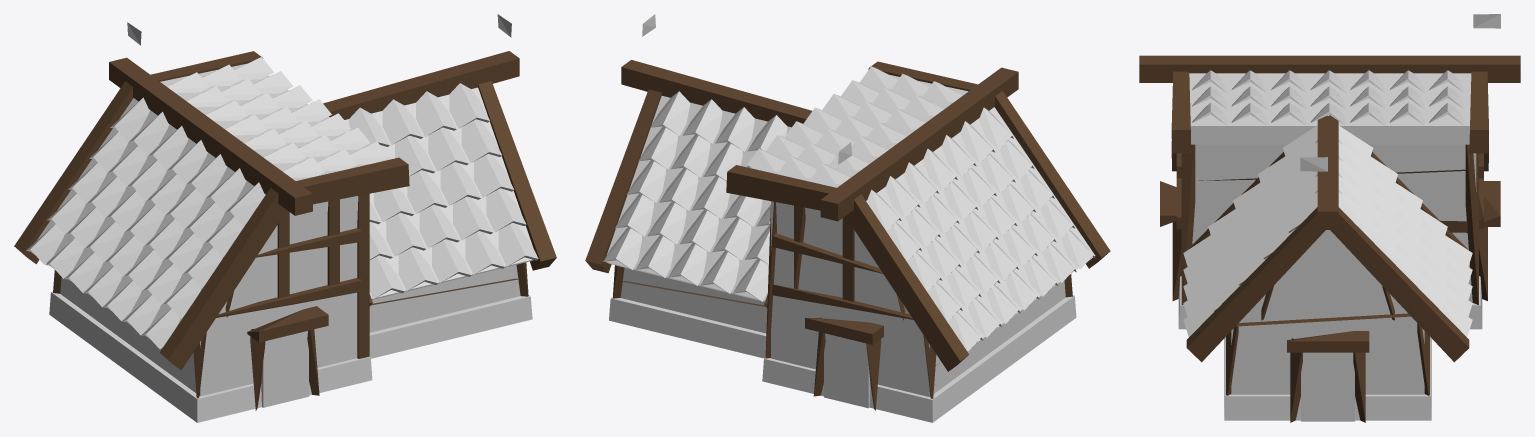
Rendered from rts_h5.glb.
3 renders of one model, left to right at view 1: azimuth 30°, elevation 25°; view 2: azimuth 150°, elevation 25°; view 3: azimuth 270°, elevation 25°, orthographic. The views are drawn at different scales.
Visible parts, largest first — view 1: S_HousesSecondAge2Level2; view 2: S_HousesSecondAge2Level2; view 3: S_HousesSecondAge2Level2.
Boxes of the visible parts, x1,y1,x2,y2 form: S_HousesSecondAge2Level2: (14,14,556,422); S_HousesSecondAge2Level2: (585,14,1110,422); S_HousesSecondAge2Level2: (1139,14,1520,422).
Size of the model in its own units: 1.55 by 0.9215 by 1.17.
